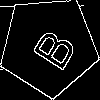B: (23, 21, 78, 74)
